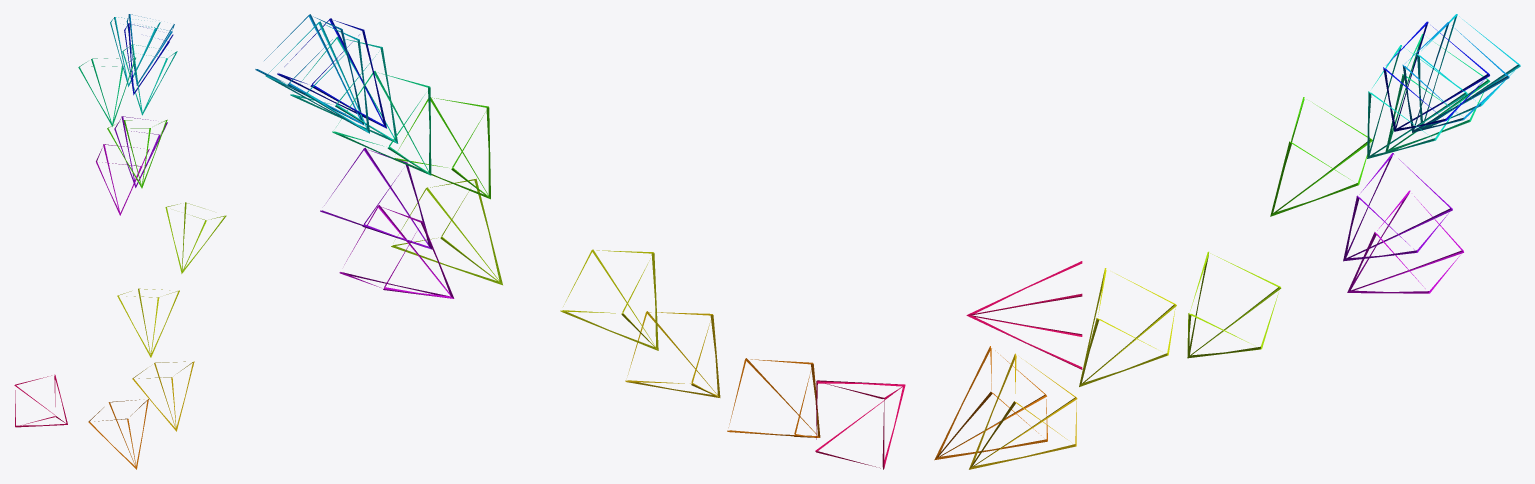
File: wrist_video_113.glb
The picture shows the model from 3 angles, left to right: view 1: azimuth 30°, elevation 25°; view 2: azimuth 150°, elevation 25°; view 3: azimuth 270°, elevation 25°; orthographic projection. The views are drawn at different scales.
Parts seen in each view (by area): view 1: world; view 2: world; view 3: world.
Boxes of the visible parts, x1=… form: world: x1=14, y1=14, x2=226, y2=469; world: x1=255, y1=14, x2=905, y2=469; world: x1=934, y1=14, x2=1520, y2=469.
Bounding box in the file's own units: 0.5555 × 0.6294 × 0.6005.
